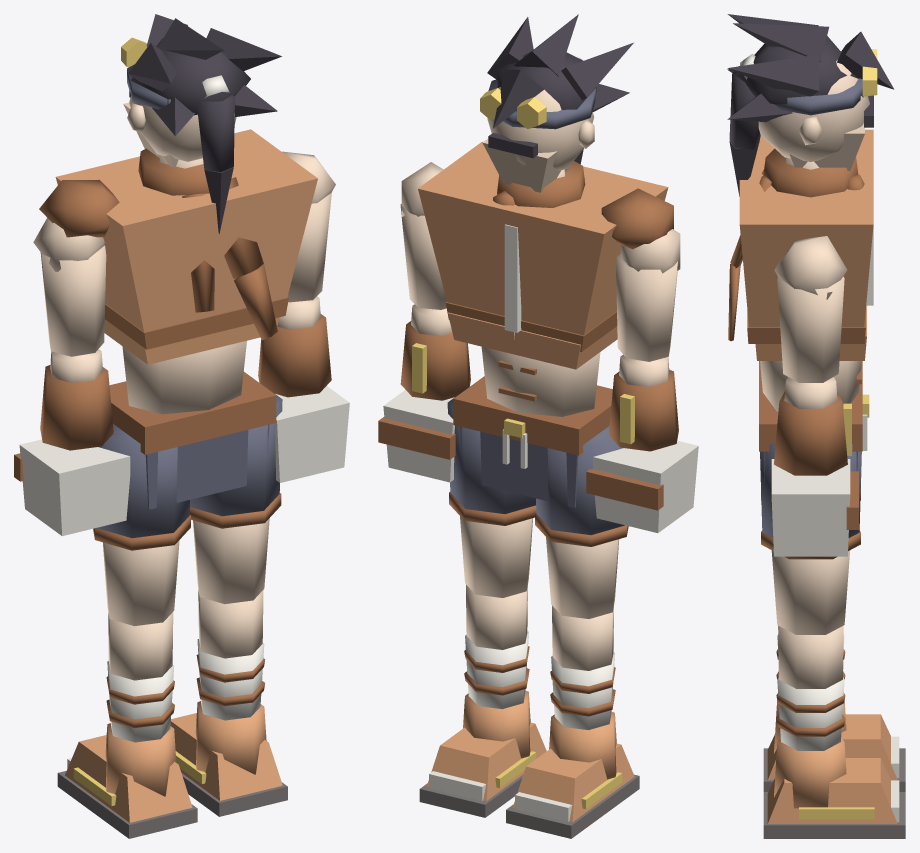
Rendered from fighter_sprite.glb.
3 views of the same model, side by side, from view 1: azimuth 30°, elevation 25°; view 2: azimuth 150°, elevation 25°; view 3: azimuth 270°, elevation 25° (orthographic). The views are drawn at different scales.
Parts seen in each view (by area): view 1: chest, head, hip_l, pelvis, kn_l, kn_r, hip_r, torso, wr_l, sh_l, an_l, el_l (+4 smaller); view 2: chest, head, hip_l, pelvis, torso, kn_l, kn_r, hip_r, wr_l, an_l, an_r, sh_l (+4 smaller); view 3: head, chest, kn_r, sh_r, an_r, hip_r, wr_r, el_r, an_l, torso, pelvis, kn_l.
Boxes of the visible parts, <box> form: chest: <box>39,129,317,349</box>; head: <box>121,14,281,234</box>; hip_l: <box>93,424,190,626</box>; pelvis: <box>109,371,276,509</box>; kn_l: <box>105,612,176,796</box>; kn_r: <box>195,590,266,774</box>; hip_r: <box>189,393,282,604</box>; torso: <box>104,317,279,414</box>; wr_l: <box>14,439,130,536</box>; sh_l: <box>33,218,106,356</box>; an_l: <box>57,735,197,838</box>; el_l: <box>40,349,113,450</box>; chest: <box>418,141,673,351</box>; head: <box>480,14,633,192</box>; hip_l: <box>535,426,628,618</box>; pelvis: <box>453,376,612,507</box>; torso: <box>448,312,617,416</box>; kn_l: <box>549,605,616,779</box>; kn_r: <box>463,585,530,758</box>; hip_r: <box>447,397,536,597</box>; wr_l: <box>586,441,698,533</box>; an_l: <box>506,743,639,838</box>; an_r: <box>419,722,546,817</box>; sh_l: <box>616,229,680,361</box>; head: <box>727,14,894,196</box>; chest: <box>728,129,873,343</box>; kn_r: <box>774,625,846,808</box>; sh_r: <box>774,236,847,382</box>; an_r: <box>763,758,905,838</box>; hip_r: <box>760,444,861,634</box>; wr_r: <box>771,459,858,556</box>; el_r: <box>774,377,851,475</box>; an_l: <box>763,714,905,791</box>; torso: <box>755,305,866,411</box>; pelvis: <box>759,361,869,481</box>; kn_l: <box>774,634,846,753</box>.
Bounding box in the file's own units: 0.7797 × 1.99 × 0.4137.
